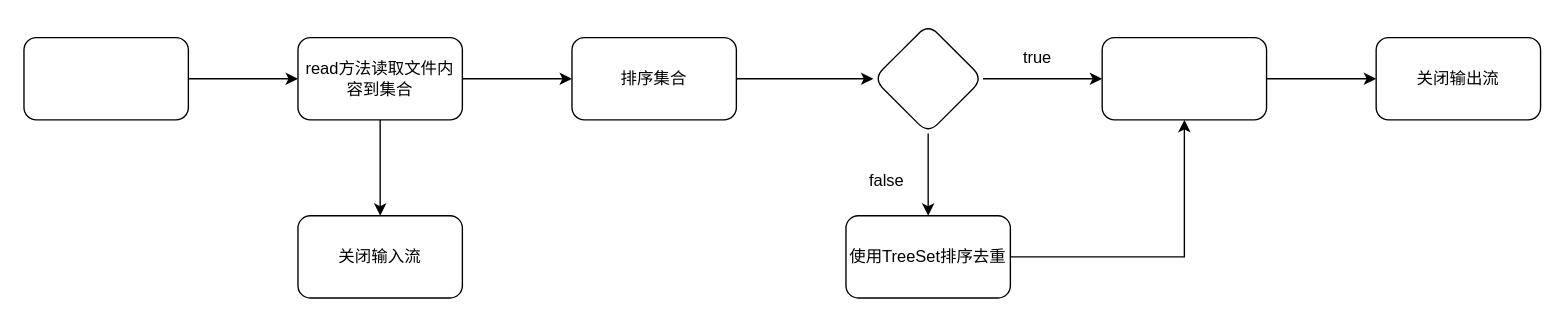
Some shapes in this 1565 by 322 pixel diagram are drawn without their labels. The shapes that lost their labels are listed below. From the top down, each one's centre as x and y in pixels, then its label:
At pixel 105 78: "程序入口fun".
At pixel 927 78: "check".
At pixel 1184 78: "把数据写入文件".
